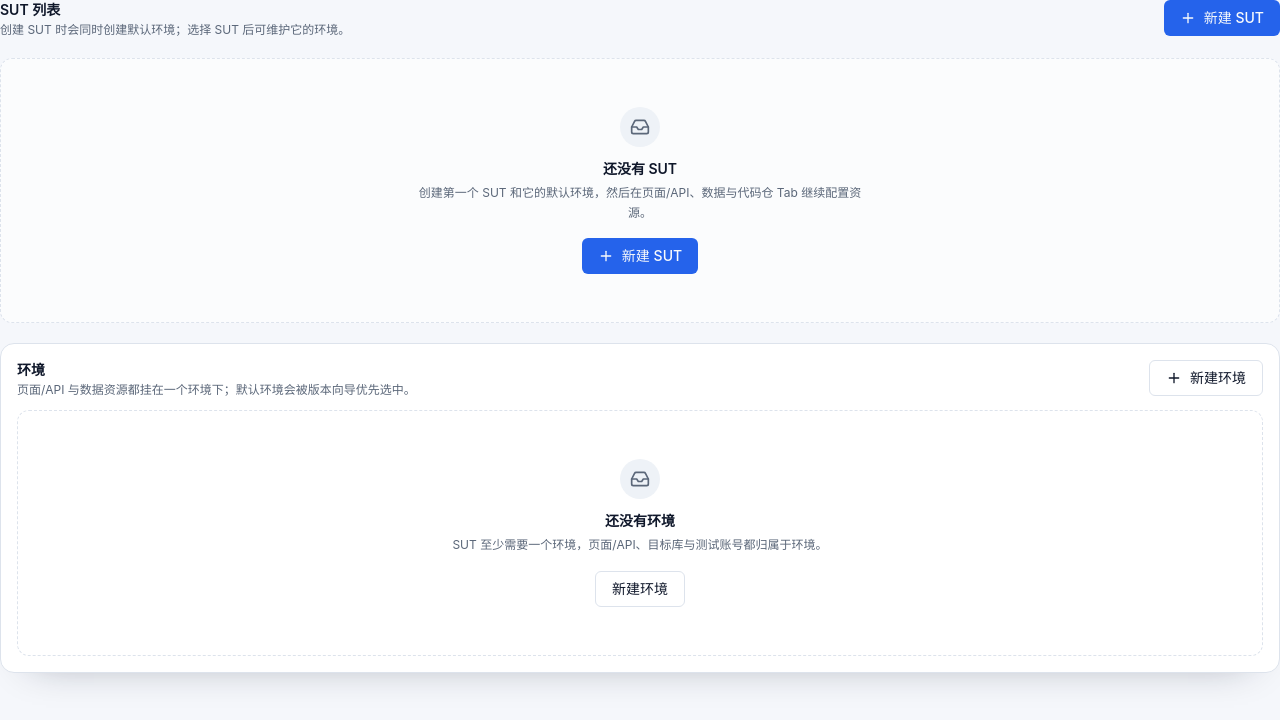
SUTPanel › refreshes the SUT list when the default environment fails after the SUT was created
Step 1. Click the button "新建 SUT" in the row of "创建 SUT 时会同时创建默认环境；选择 SUT 后可维护它的环境。" → (1222, 18), box [1164,0,1279,36]
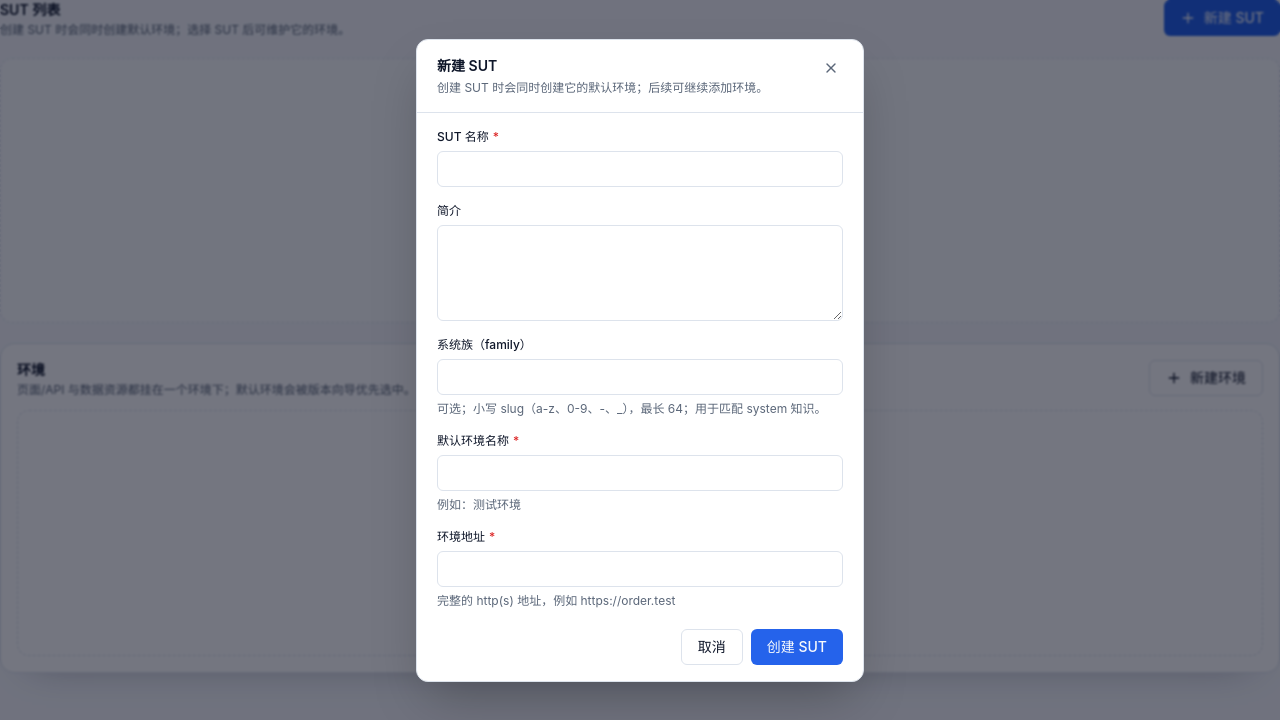
Step 2. Type "订单中心" into the field labelled "SUT 名称" → (640, 168), box [437,150,843,186]
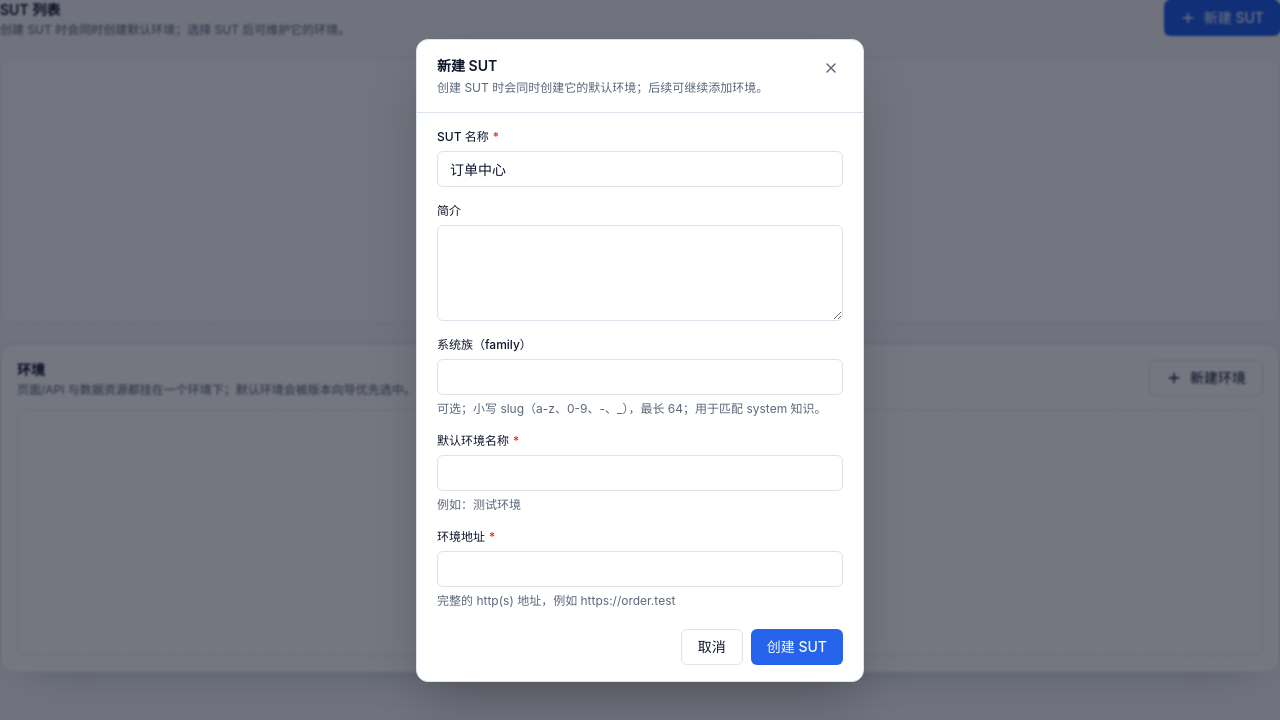
Step 3. Type "测试环境" into the field labelled "默认环境名称" → (640, 472), box [437,454,843,490]
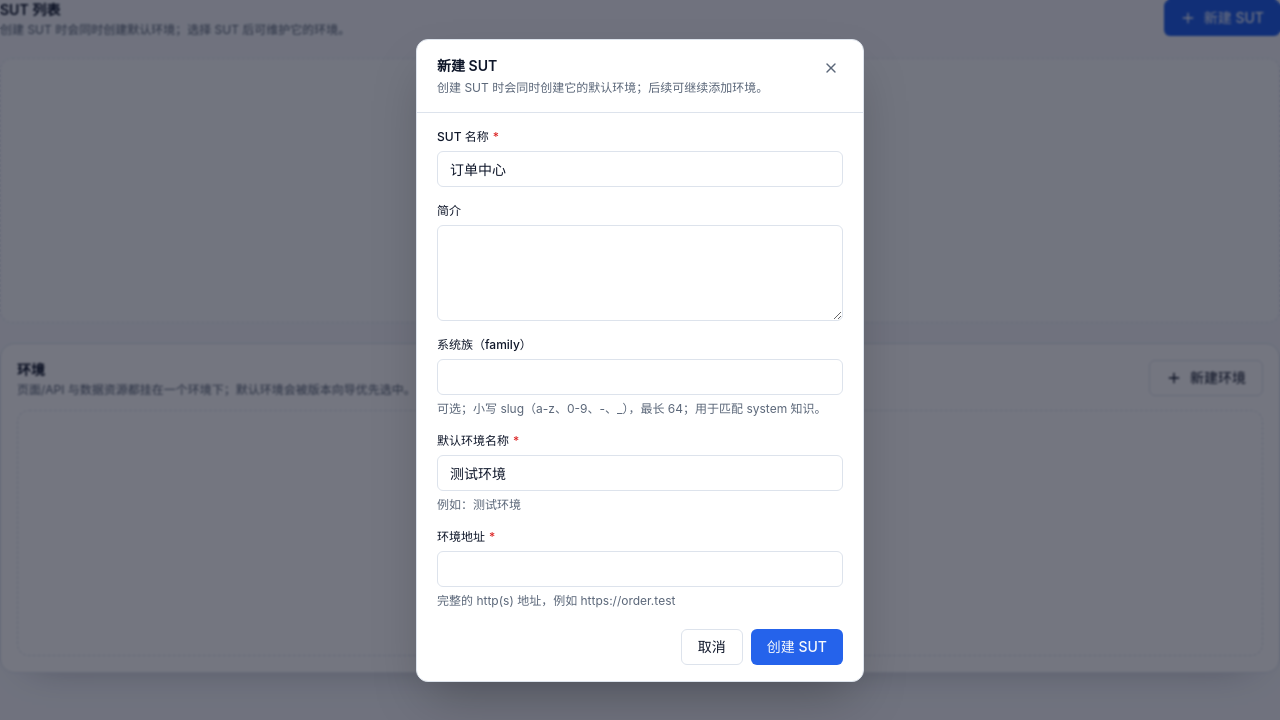
Step 4. Type "https://order.test" into the field labelled "环境地址" → (640, 568), box [437,550,843,586]
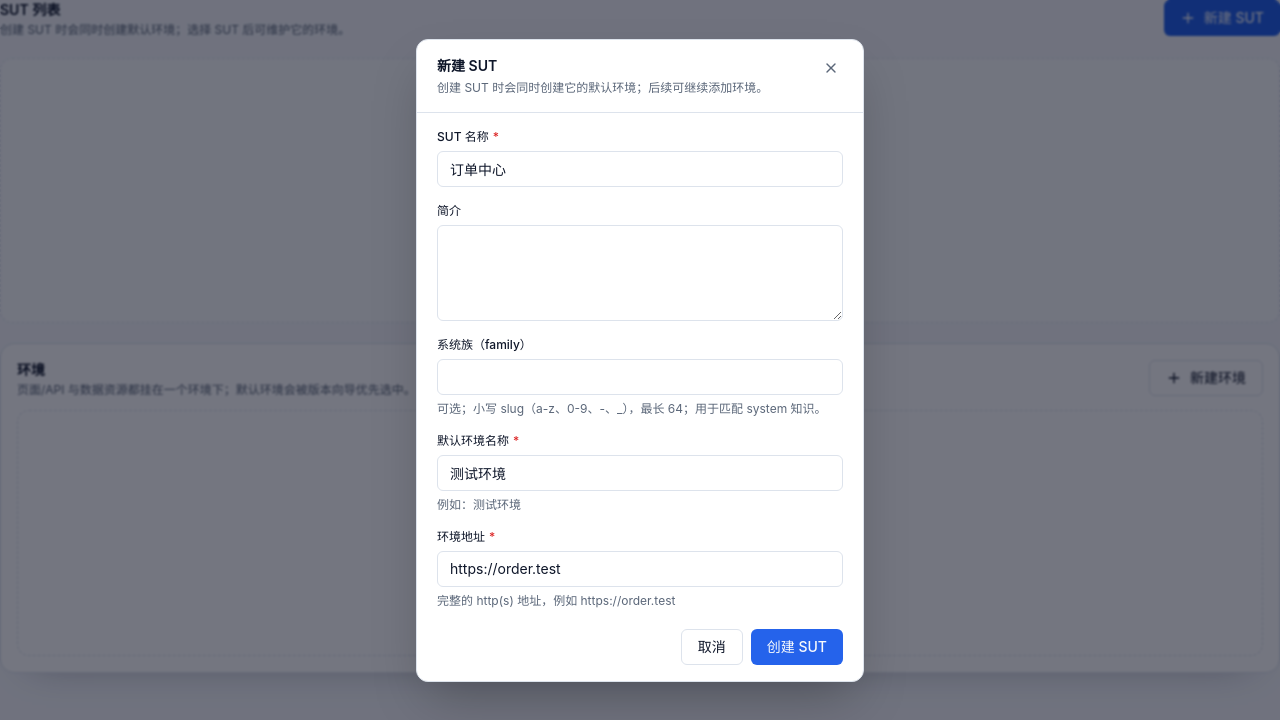
Step 5. Click the button "创建 SUT" → (797, 646), box [751,628,843,664]
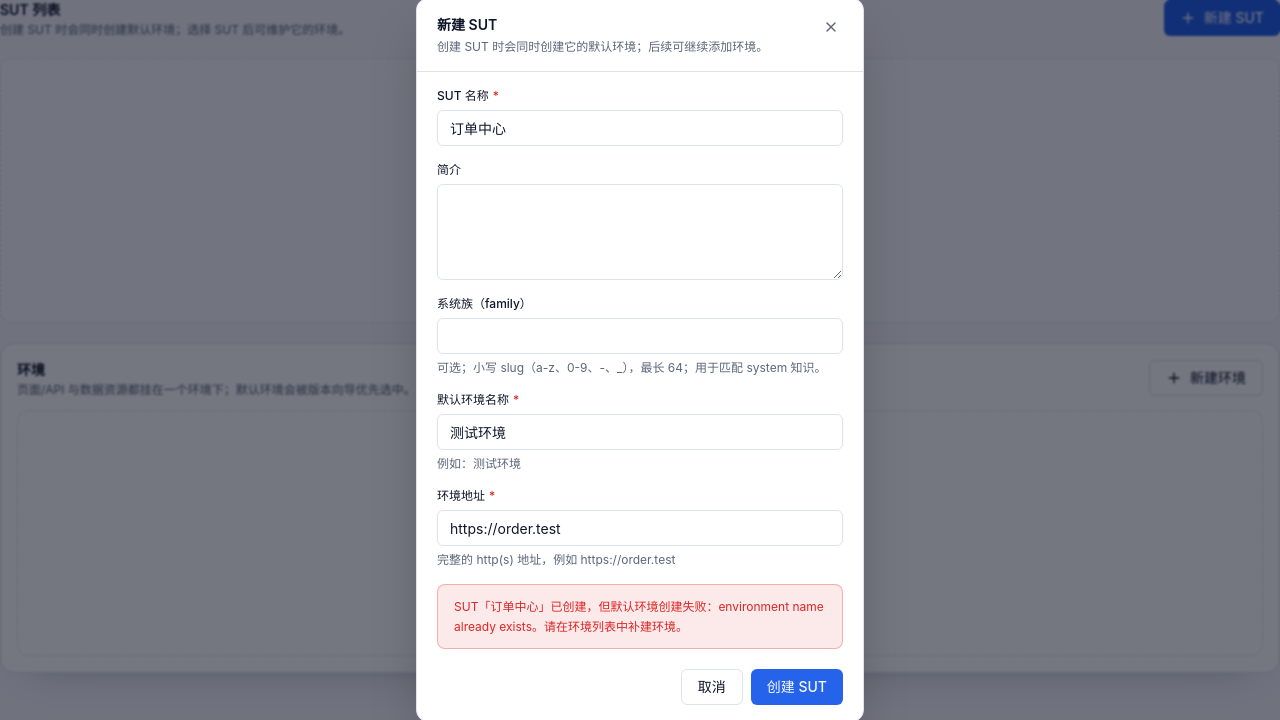
Expected: the text "默认环境创建失败" is shown, [454,599,824,634]
